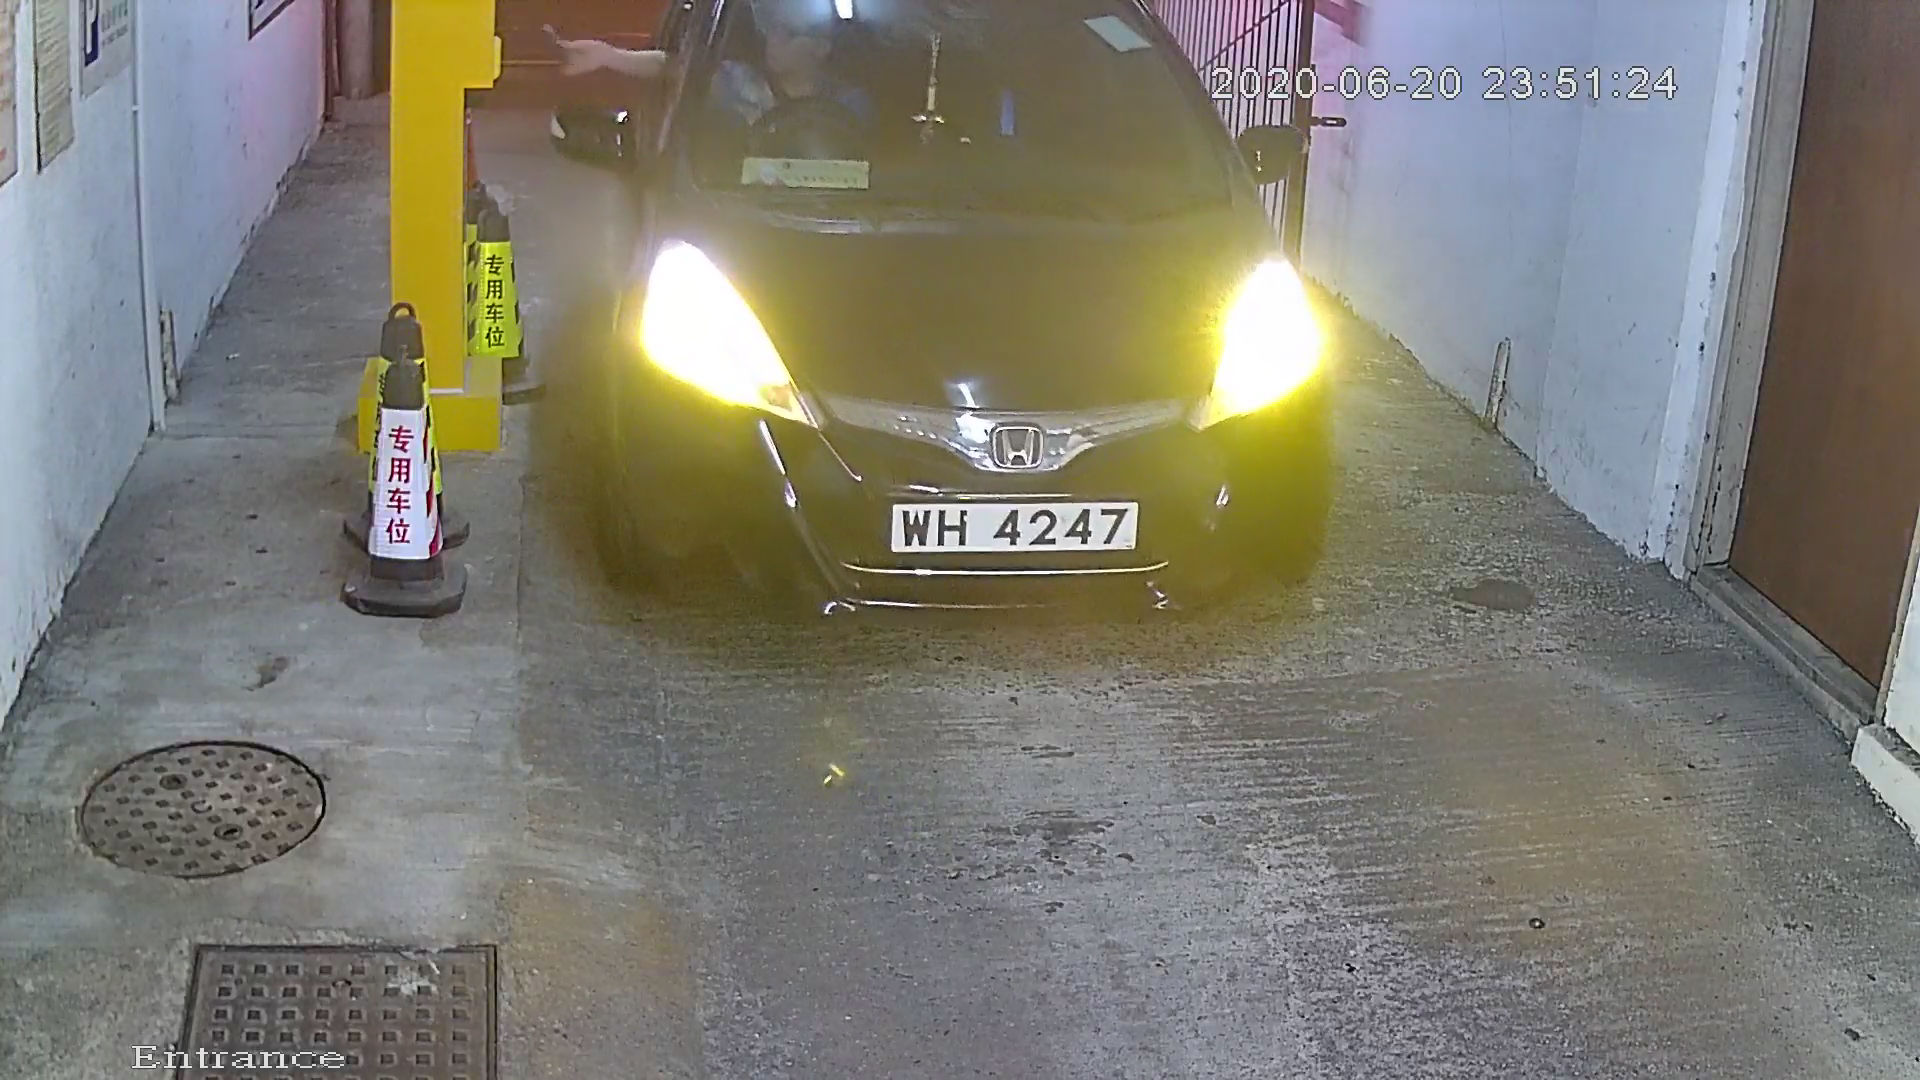privatecar: (535, 3, 1375, 698)
